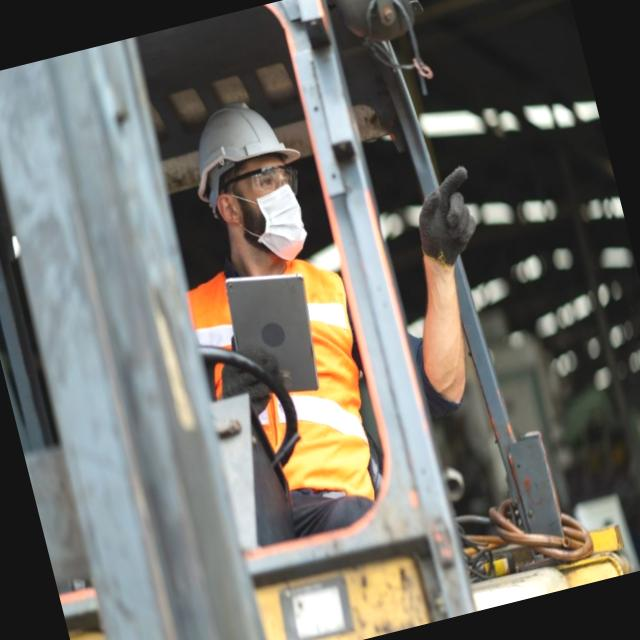goggles: (216, 156, 304, 211)
helmet: (177, 85, 314, 222)
vest: (172, 232, 402, 526)
